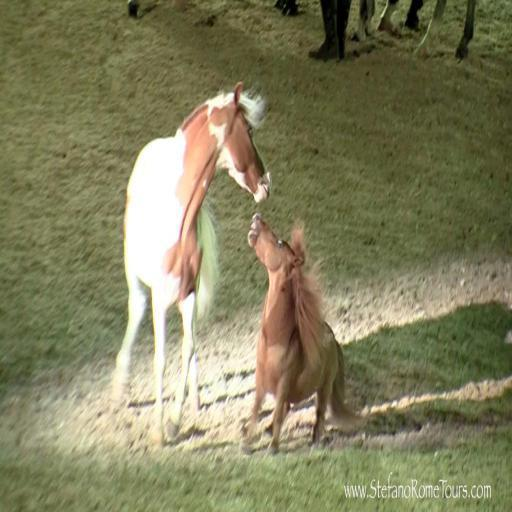horse: (115, 84, 272, 453), (242, 214, 363, 452)
